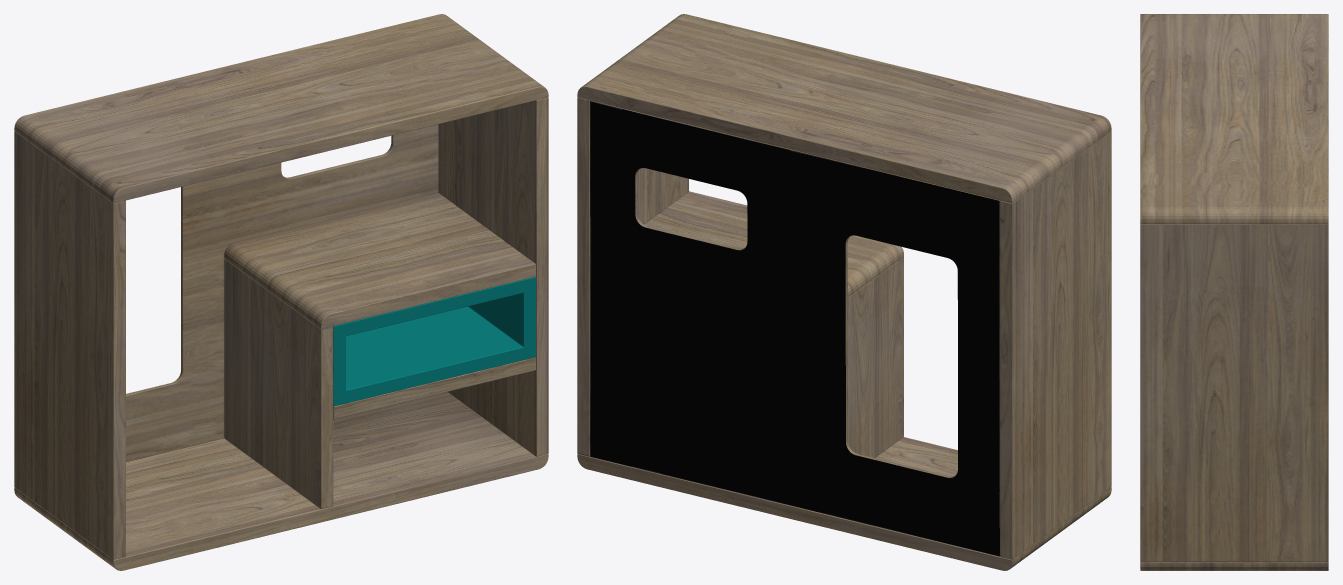
The model's file is microfridge.glb.
The picture shows the model from 3 angles, left to right: view 1: azimuth 30°, elevation 25°; view 2: azimuth 150°, elevation 25°; view 3: azimuth 270°, elevation 25°; orthographic projection. The views are drawn at different scales.
Parts seen in each view (by area): view 1: black; view 2: black; view 3: black.
Part boxes in pixels (<box>): black: <box>14,14,548,570</box>; black: <box>577,14,1111,570</box>; black: <box>1140,14,1328,570</box>.
Size of the model in its own units: 1.32 by 1.11 by 0.52.
1 material, 1 textured.
